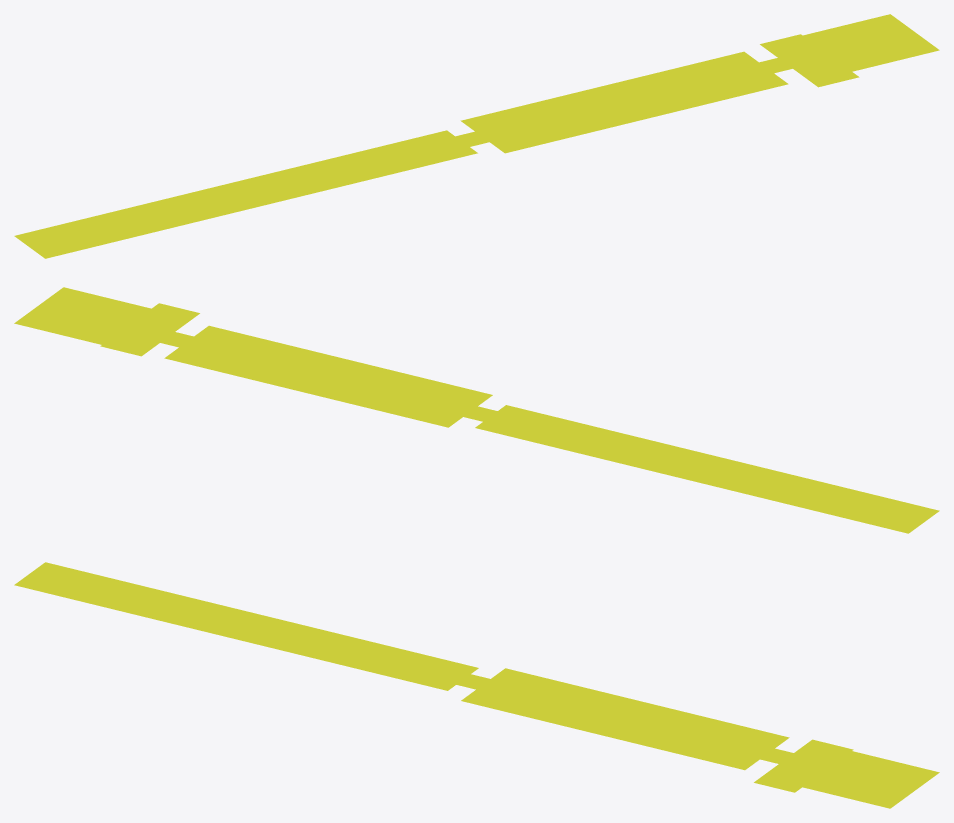
The model's file is navmesh.glb.
3 renders of one model, top to bottom at view 1: azimuth 30°, elevation 25°; view 2: azimuth 150°, elevation 25°; view 3: azimuth 330°, elevation 25°, orthographic.
Visible parts, largest first — view 1: Plane.013; view 2: Plane.013; view 3: Plane.013.
Part boxes in pixels (box(x1,y1,x2,y2)): Plane.013: box(14, 14, 939, 258); Plane.013: box(14, 287, 939, 533); Plane.013: box(14, 562, 939, 808).
Size of the model in its own units: 147 by 0 by 16.99.
